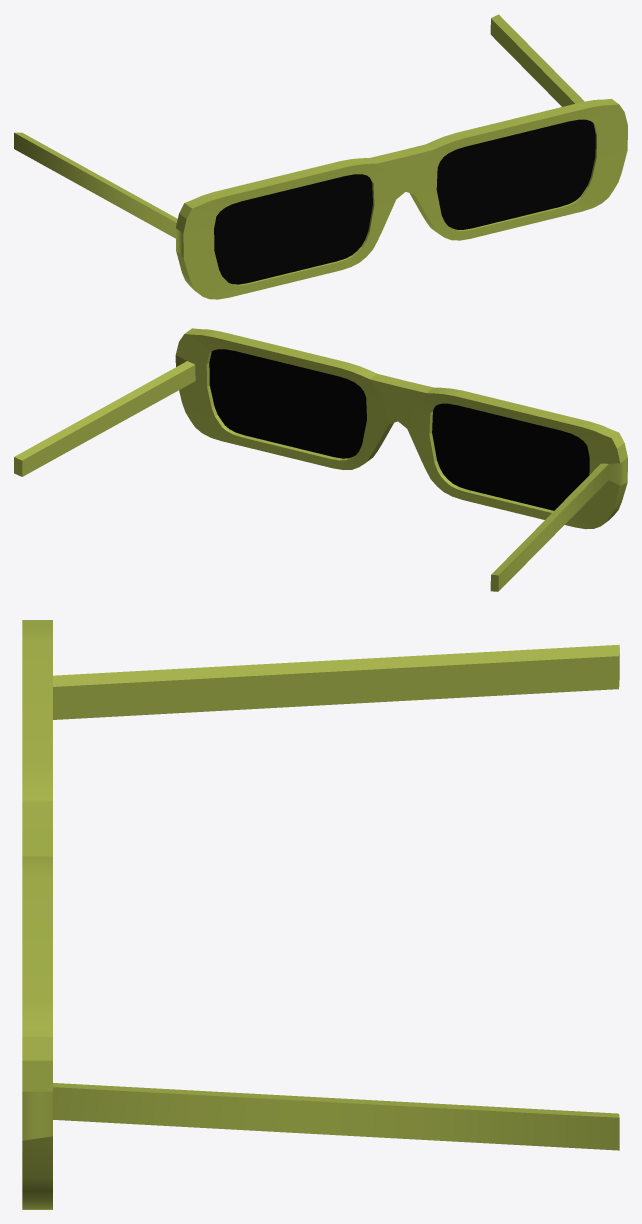
Rendered from BillieGlasses.fbx.
3 renders of one model, top to bottom at view 1: azimuth 30°, elevation 25°; view 2: azimuth 150°, elevation 25°; view 3: azimuth 270°, elevation 25°, orthographic. The views are drawn at different scales.
Visible parts, largest first — view 1: kinh; view 2: kinh; view 3: kinh.
Boxes of the visible parts, x1,y1,x2,y2 form: kinh: [14, 14, 627, 299]; kinh: [14, 328, 627, 591]; kinh: [22, 620, 619, 1209].
Bounding box in the file's own units: 1680 × 338 × 896.
